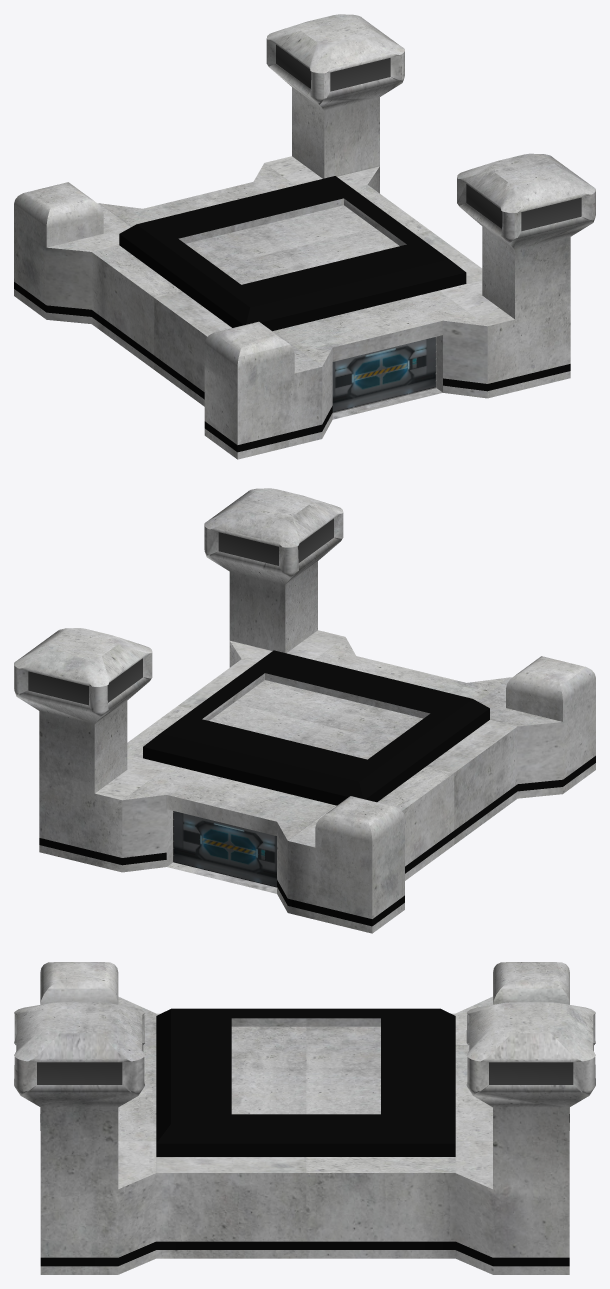
Rendered from newbunker.fbx.
3 views of the same model, one above another, from view 1: azimuth 30°, elevation 25°; view 2: azimuth 150°, elevation 25°; view 3: azimuth 270°, elevation 25° (orthographic). The views are drawn at different scales.
Visible parts, largest first — view 1: pCube3; view 2: pCube3; view 3: pCube3.
Part boxes in pixels (x1,y1,x2,y2): pCube3: (14,14,595,459); pCube3: (14,488,595,933); pCube3: (14,962,595,1274).
Size of the model in its own units: 25.54 by 14.09 by 30.83.
4 materials, 1 textured.
